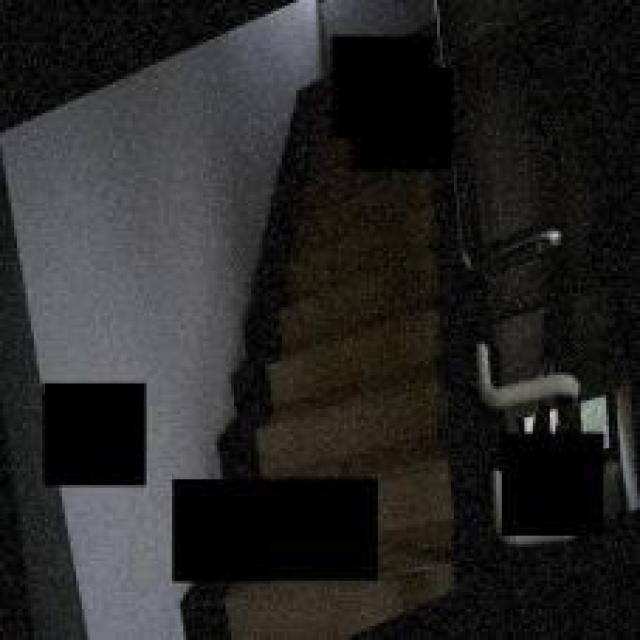upstair: (255, 233, 418, 464)
